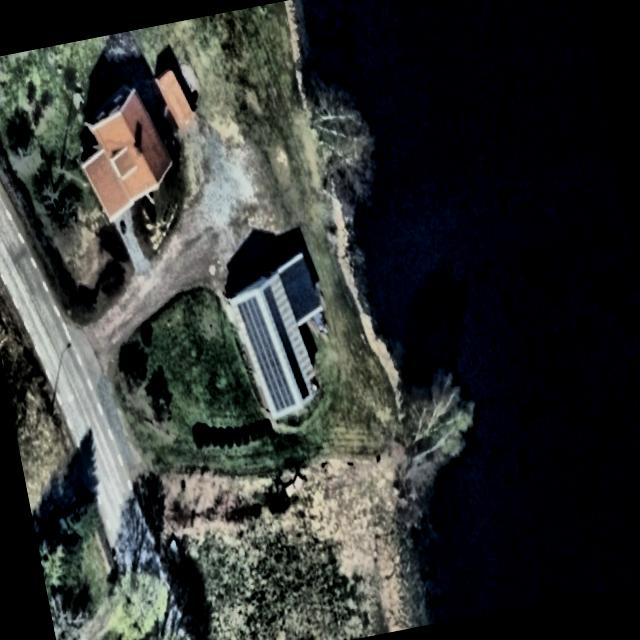roof_pv: (234, 288, 300, 426), (262, 280, 312, 410)
